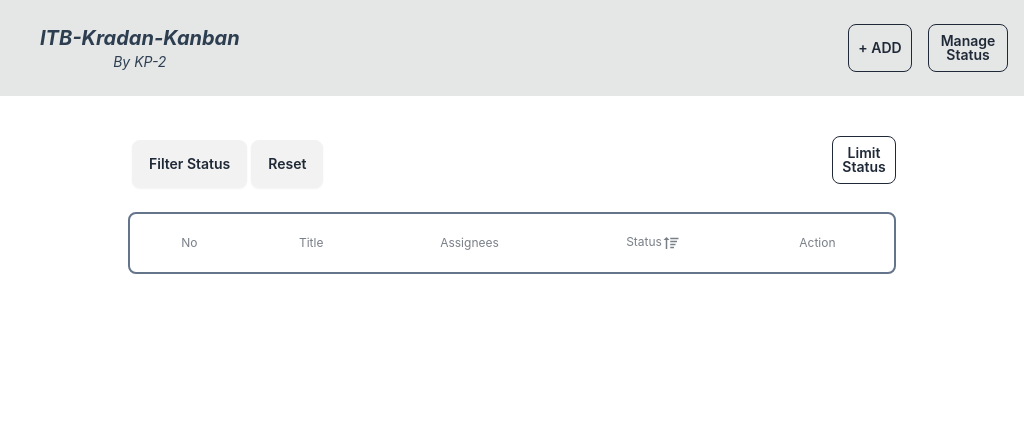
Test: Table shows Title, Description and Action
Click the button with class "itbkk-manage-status".
click(968, 48)  # box x1=928 y1=24 x2=1008 y2=72
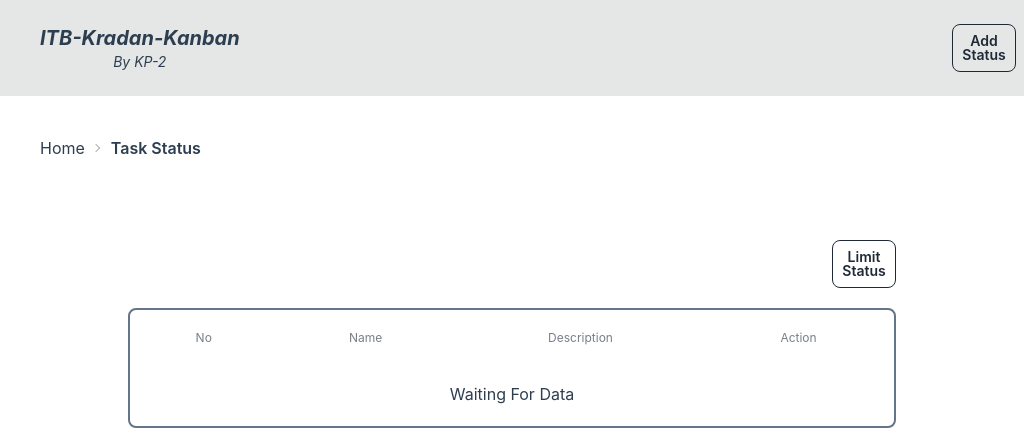
Expected: the column heading "Action" is shown, x1=707 y1=314 x2=890 y2=362
Now the column heading "Name" is shown, box x1=278 y1=314 x2=454 y2=362
Now the column heading "Description" is shown, box x1=458 y1=314 x2=703 y2=362
